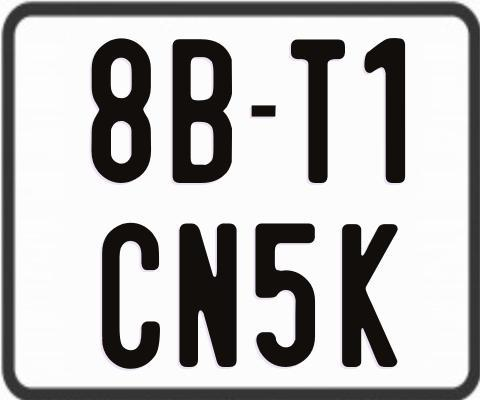1: (363, 38, 408, 188)
5: (252, 222, 317, 369)
8: (90, 38, 155, 183)
B: (171, 37, 233, 187)
C: (99, 222, 160, 369)
K: (342, 224, 398, 371)
N: (178, 222, 237, 367)
T: (289, 40, 344, 184)
